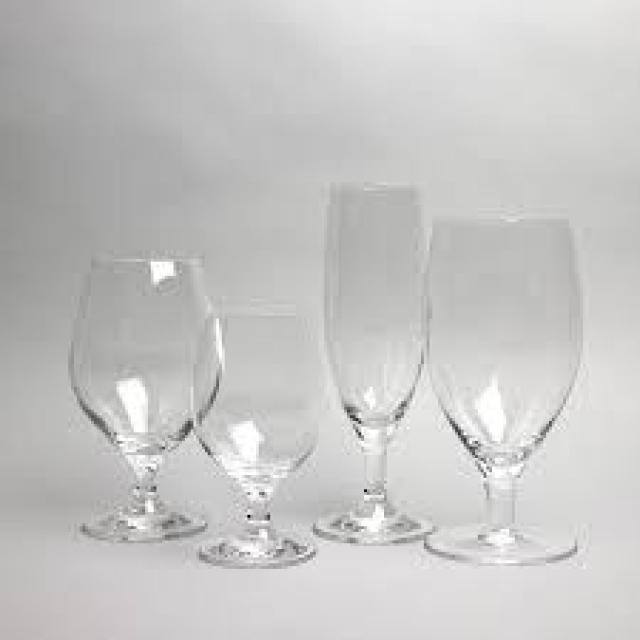glass: (424, 214, 577, 564), (307, 182, 430, 540), (65, 259, 219, 543), (188, 307, 316, 563)
